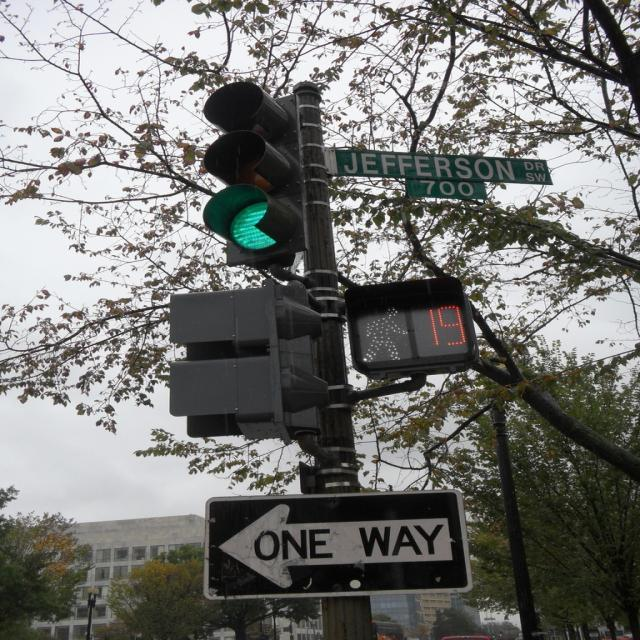off traffic light: (163, 288, 307, 425)
traffic light: (201, 79, 308, 260), (340, 276, 478, 377)
